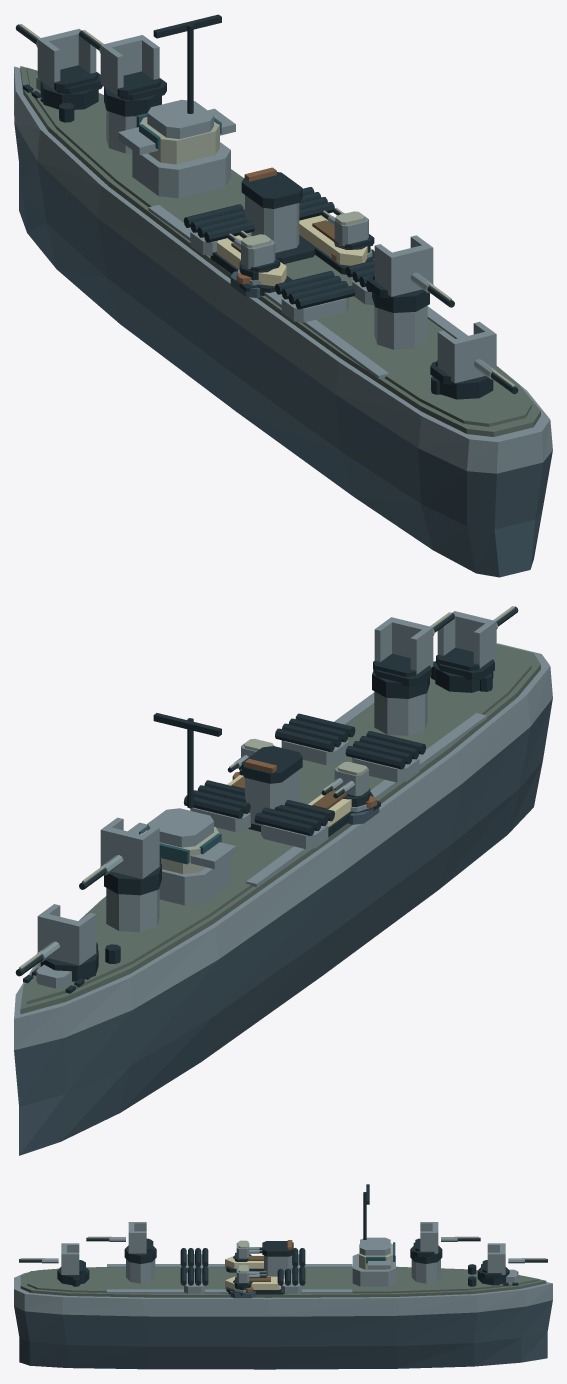
Rendered from historic-gridley.glb.
3 renders of one model, top to bottom at view 1: azimuth 30°, elevation 25°; view 2: azimuth 150°, elevation 25°; view 3: azimuth 270°, elevation 25°, orthographic. The views are drawn at different scales.
Parts seen in each view (by area): view 1: historic-gridley-historic-gridley-geometry, historic-gridley-part_bridge.125-geometry, historic-gridley-turret_main_1.087-geometry, historic-gridley-turret_main_0.094-geometry, historic-gridley-historic_funnel_0.118-geometry, historic-gridley-turret_main_2.073-geometry, historic-gridley-turret_main_3.048-geometry, historic-gridley-torpedo_bank_0.034-geometry, historic-gridley-torpedo_bank_2.010-geometry, historic-gridley-turret_aa_aa-port.127-geometry, historic-gridley-turret_aa_aa-starboard.123-geometry, historic-gridley-torpedo_bank_1.031-geometry (+1 smaller); view 2: historic-gridley-historic-gridley-geometry, historic-gridley-part_bridge.125-geometry, historic-gridley-turret_main_2.073-geometry, historic-gridley-turret_main_3.048-geometry, historic-gridley-turret_main_1.087-geometry, historic-gridley-turret_main_0.094-geometry, historic-gridley-historic_funnel_0.118-geometry, historic-gridley-torpedo_bank_2.010-geometry, historic-gridley-torpedo_bank_1.031-geometry, historic-gridley-torpedo_bank_0.034-geometry, historic-gridley-torpedo_bank_3.006-geometry, historic-gridley-turret_aa_aa-port.127-geometry; view 3: historic-gridley-historic-gridley-geometry, historic-gridley-part_bridge.125-geometry, historic-gridley-turret_main_2.073-geometry, historic-gridley-turret_main_1.087-geometry, historic-gridley-turret_main_0.094-geometry, historic-gridley-turret_main_3.048-geometry, historic-gridley-historic_funnel_0.118-geometry, historic-gridley-torpedo_bank_1.031-geometry, historic-gridley-torpedo_bank_3.006-geometry, historic-gridley-torpedo_bank_0.034-geometry, historic-gridley-turret_aa_aa-starboard.123-geometry, historic-gridley-turret_aa_aa-port.127-geometry (+1 smaller).
Boxes of the visible parts, x1,y1,x2,y2 form: historic-gridley-historic-gridley-geometry: (14,66,552,577); historic-gridley-part_bridge.125-geometry: (118,14,235,198); historic-gridley-turret_main_1.087-geometry: (79,30,166,116); historic-gridley-turret_main_0.094-geometry: (15,24,102,109); historic-gridley-historic_funnel_0.118-geometry: (241,167,315,263); historic-gridley-turret_main_2.073-geometry: (367,235,454,312); historic-gridley-turret_main_3.048-geometry: (430,321,518,399); historic-gridley-torpedo_bank_0.034-geometry: (275,271,355,322); historic-gridley-torpedo_bank_2.010-geometry: (183,204,254,255); historic-gridley-turret_aa_aa-port.127-geometry: (227,230,280,280); historic-gridley-turret_aa_aa-starboard.123-geometry: (321,207,374,252); historic-gridley-torpedo_bank_1.031-geometry: (345,260,374,305); historic-gridley-historic-gridley-geometry: (14,643,552,1155); historic-gridley-part_bridge.125-geometry: (128,713,235,905); historic-gridley-turret_main_2.073-geometry: (372,612,454,698); historic-gridley-turret_main_3.048-geometry: (435,606,518,692); historic-gridley-turret_main_1.087-geometry: (79,817,161,895); historic-gridley-turret_main_0.094-geometry: (15,904,98,981); historic-gridley-historic_funnel_0.118-geometry: (241,746,302,831); historic-gridley-torpedo_bank_2.010-geometry: (254,800,334,849); historic-gridley-torpedo_bank_1.031-geometry: (275,713,355,765); historic-gridley-torpedo_bank_0.034-geometry: (345,731,425,782); historic-gridley-torpedo_bank_3.006-geometry: (183,780,250,831); historic-gridley-turret_aa_aa-port.127-geometry: (321,761,370,807); historic-gridley-historic-gridley-geometry: (14,1255,552,1369); historic-gridley-part_bridge.125-geometry: (352,1184,395,1286); historic-gridley-turret_main_2.073-geometry: (86,1222,156,1263); historic-gridley-turret_main_1.087-geometry: (410,1222,480,1263); historic-gridley-turret_main_0.094-geometry: (477,1243,547,1285); historic-gridley-turret_main_3.048-geometry: (19,1243,89,1285); historic-gridley-historic_funnel_0.118-geometry: (261,1240,293,1276); historic-gridley-torpedo_bank_1.031-geometry: (180,1266,208,1293); historic-gridley-torpedo_bank_3.006-geometry: (277,1266,305,1293); historic-gridley-torpedo_bank_0.034-geometry: (180,1248,208,1272); historic-gridley-turret_aa_aa-starboard.123-geometry: (233,1265,266,1290); historic-gridley-turret_aa_aa-port.127-geometry: (233,1240,262,1261).
Bounding box in the file's own units: 0.6374 × 1.39 × 4.11.
